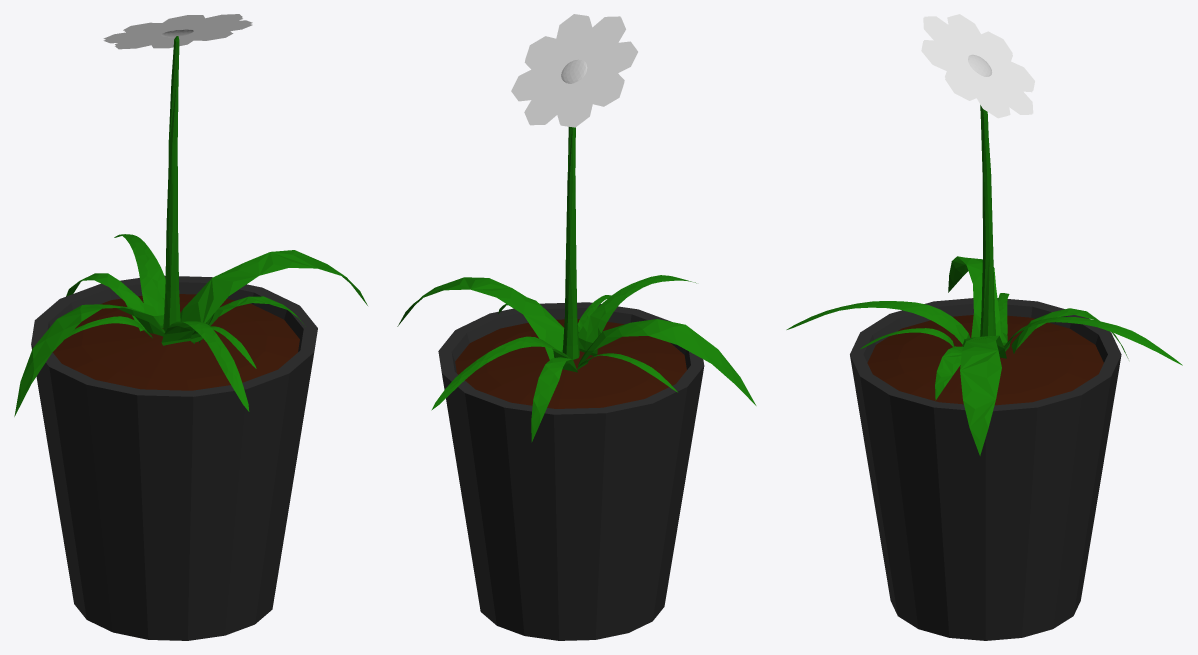
The model's file is plant.fbx.
3 renders of one model, left to right at view 1: azimuth 30°, elevation 25°; view 2: azimuth 150°, elevation 25°; view 3: azimuth 270°, elevation 25°, orthographic. The views are drawn at different scales.
Visible parts, largest first — view 1: Cylinder.001, Cylinder, Plane.003, Cylinder.002, Plane.002, Plane.004, Plane.001, Plane.007, Plane.006; view 2: Cylinder.001, Cylinder, Plane.002, Plane.003, Cylinder.002, Plane.001, Plane.007, Plane.004, Plane, Plane.011, Plane.010, Plane.009 (+5 smaller); view 3: Cylinder.001, Cylinder, Plane.003, Cylinder.002, Plane.001, Plane.002, Plane.004, Plane, Plane.010, Plane.011, Plane.009, Plane.020 (+5 smaller).
Boxes of the visible parts, bbox=[...] form: Cylinder.001: bbox=[31, 275, 317, 640]; Cylinder: bbox=[52, 294, 299, 390]; Plane.003: bbox=[180, 250, 367, 343]; Cylinder.002: bbox=[163, 36, 180, 331]; Plane.002: bbox=[14, 304, 165, 416]; Plane.004: bbox=[114, 234, 165, 330]; Plane.001: bbox=[161, 321, 249, 411]; Plane.007: bbox=[66, 273, 144, 331]; Plane.006: bbox=[199, 296, 305, 343]; Cylinder.001: bbox=[438, 302, 704, 640]; Cylinder: bbox=[455, 319, 686, 408]; Plane.002: bbox=[578, 319, 756, 405]; Plane.003: bbox=[397, 277, 564, 359]; Cylinder.002: bbox=[562, 127, 579, 359]; Plane.001: bbox=[578, 275, 696, 356]; Plane.007: bbox=[531, 357, 577, 442]; Plane.004: bbox=[431, 336, 569, 410]; Plane: bbox=[555, 14, 592, 62]; Plane.011: bbox=[511, 67, 563, 101]; Plane.010: bbox=[556, 79, 592, 126]; Plane.009: bbox=[585, 42, 637, 75]; Cylinder.001: bbox=[850, 298, 1121, 640]; Cylinder: bbox=[867, 315, 1103, 405]; Plane.003: bbox=[960, 335, 1006, 455]; Cylinder.002: bbox=[980, 105, 995, 336]; Plane.001: bbox=[786, 301, 970, 344]; Plane.002: bbox=[948, 256, 1001, 340]; Plane.004: bbox=[1004, 317, 1182, 365]; Plane: bbox=[922, 40, 971, 71]; Plane.010: bbox=[987, 60, 1034, 90]; Plane.011: bbox=[976, 73, 1010, 117]; Plane.009: bbox=[949, 14, 983, 58]; Plane.020: bbox=[924, 16, 969, 58].
Size of the model in its own units: 118 by 187 by 117.
